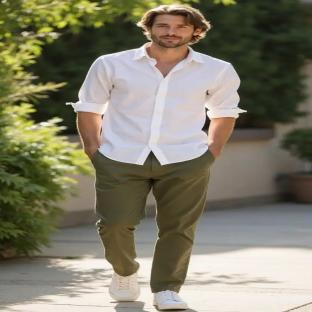Human: (66, 5, 246, 310)
